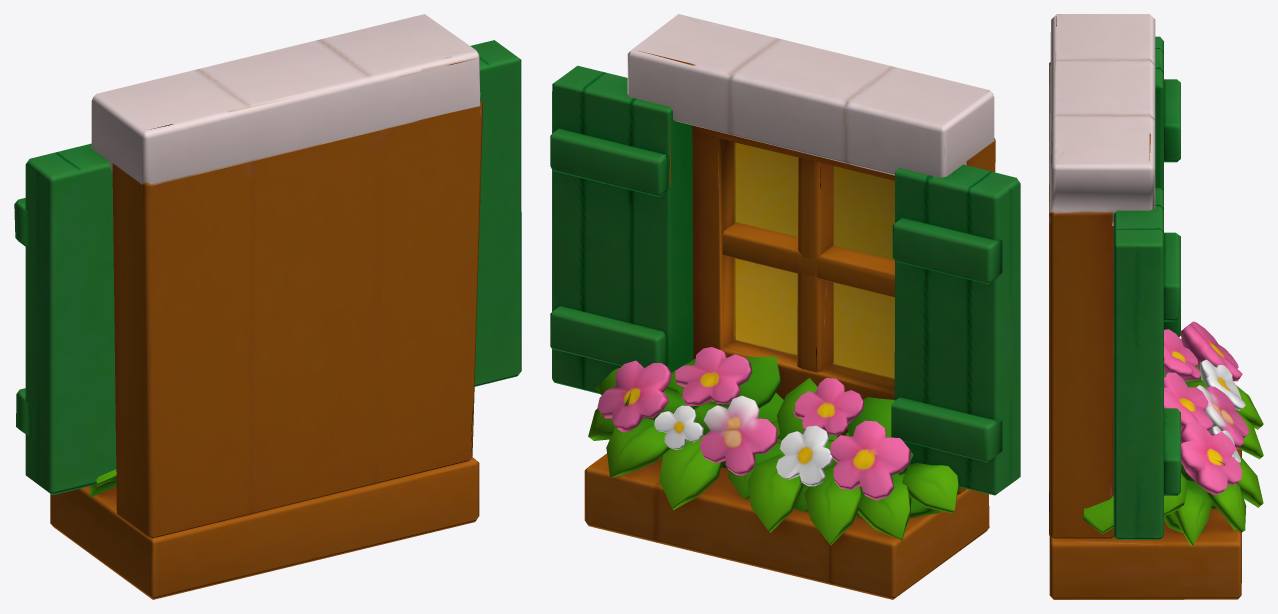
Rendered from window_shutters.glb.
3 views of the same model, side by side, from view 1: azimuth 30°, elevation 25°; view 2: azimuth 150°, elevation 25°; view 3: azimuth 270°, elevation 25° (orthographic). The views are drawn at different scales.
Parts seen in each view (by area): view 1: geometry_0; view 2: geometry_0; view 3: geometry_0.
Boxes of the visible parts, box(x1,y1,x2,y2) form: geometry_0: box(14, 14, 521, 599); geometry_0: box(550, 14, 1020, 599); geometry_0: box(1049, 14, 1263, 599).
Bounding box in the file's own units: 0.9604 × 0.9087 × 0.4043.
1 material, 1 textured.
